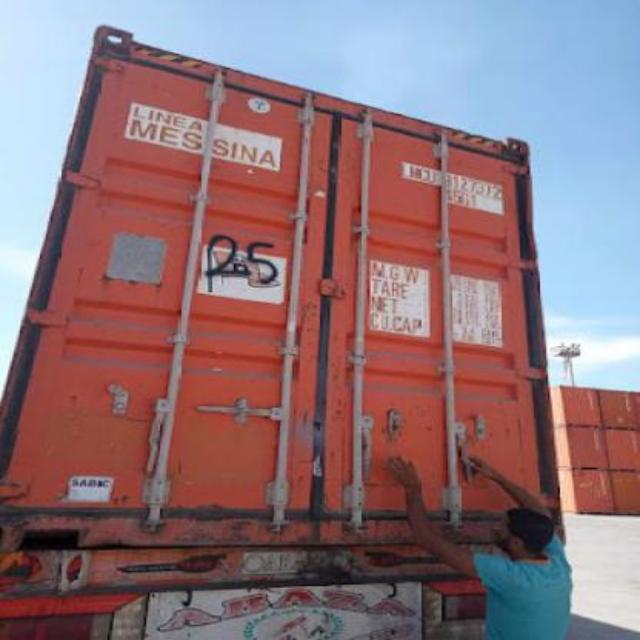1: (484, 180, 492, 200), (454, 170, 460, 194)
2: (492, 182, 506, 196), (456, 175, 468, 191)
3: (474, 180, 486, 194)
7: (468, 176, 478, 194)
9: (440, 172, 450, 188)
C: (418, 162, 428, 188)
L: (400, 158, 410, 178)
M: (408, 158, 418, 186)
U: (426, 162, 442, 186)
